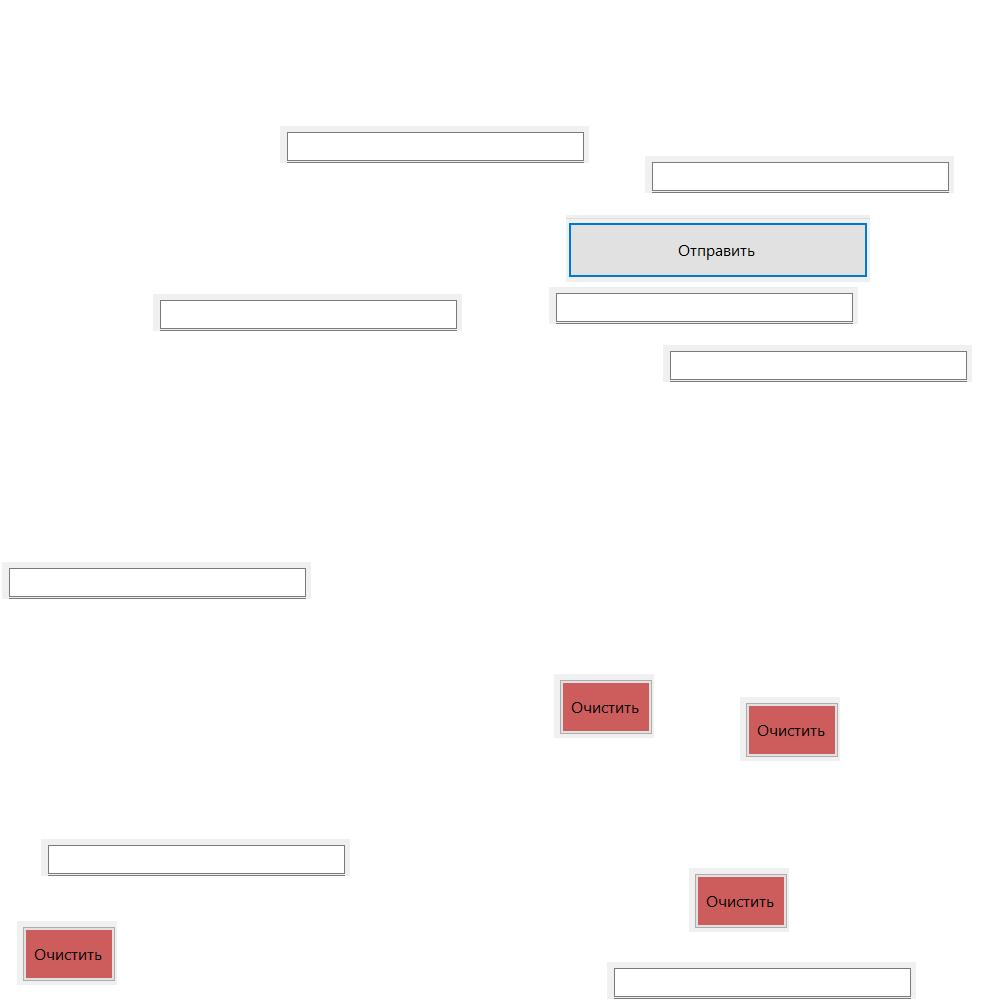Button: (566, 215, 870, 282), (17, 921, 117, 985), (740, 697, 840, 761), (689, 868, 789, 932), (554, 674, 654, 738)
EditText-: (153, 294, 462, 331), (645, 156, 954, 193), (607, 962, 916, 999), (549, 287, 858, 324), (41, 839, 350, 876), (2, 562, 311, 599), (663, 345, 972, 382), (280, 126, 589, 163)
